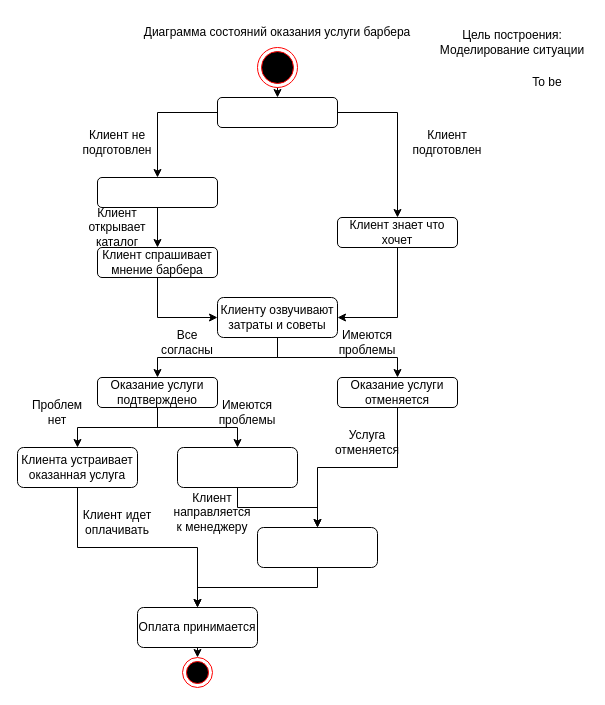
Some shapes in this 605 by 705 pixel diagram are drawn without their labels. The shapes that lost their labels are listed below. From the top down, each one's box as (x1, y1, x2, y2) in pixels, then its label:
(216, 96, 338, 128): Клиент пришел
(96, 176, 218, 208): Клиент не знает, что он хочет
(176, 446, 298, 488): Клиента не устраивает оказанная услуга
(256, 526, 378, 568): Вопрос решается менеджером
